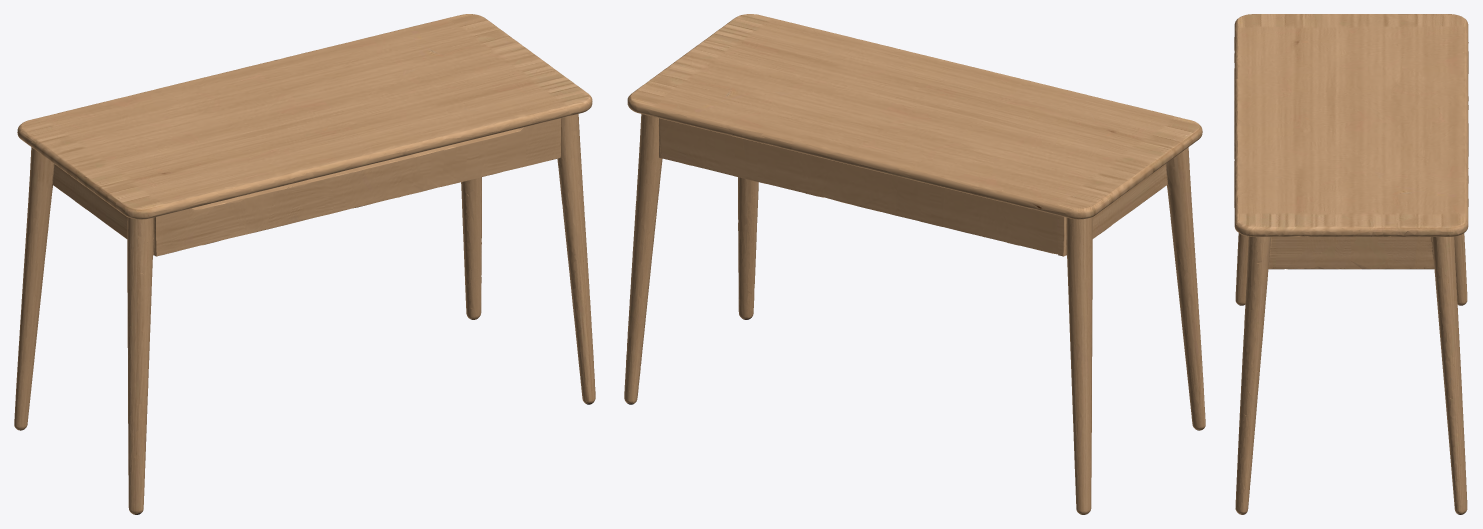
3 views of the same model, side by side, from view 1: azimuth 30°, elevation 25°; view 2: azimuth 150°, elevation 25°; view 3: azimuth 270°, elevation 25° (orthographic). The views are drawn at different scales.
Visible parts, largest first — view 1: Mesh_0; view 2: Mesh_0; view 3: Mesh_0.
Boxes of the visible parts, x1,y1,x2,y2 form: Mesh_0: [14, 14, 595, 514]; Mesh_0: [624, 14, 1205, 514]; Mesh_0: [1234, 14, 1468, 514].
Bounding box in the file's own units: 1.2 × 0.75 × 0.55.
1 material, 1 textured.
